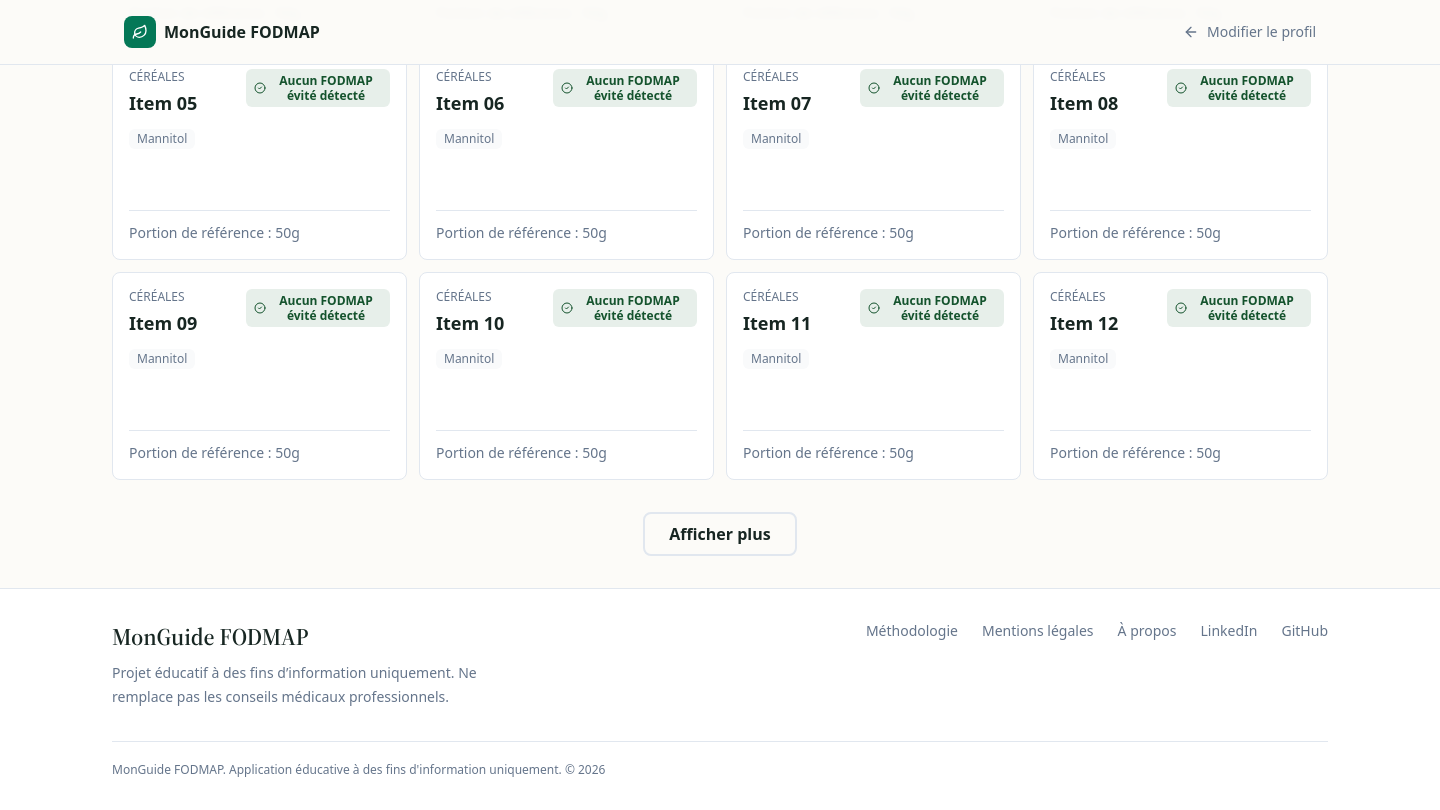
Explorer workflow › loads more foods in fixed increments and hides the control at the final state
The image size is (1440, 810).
(page scrolled)
Click the button "Afficher plus": (720, 534) [643,512,797,556]
(page scrolled)
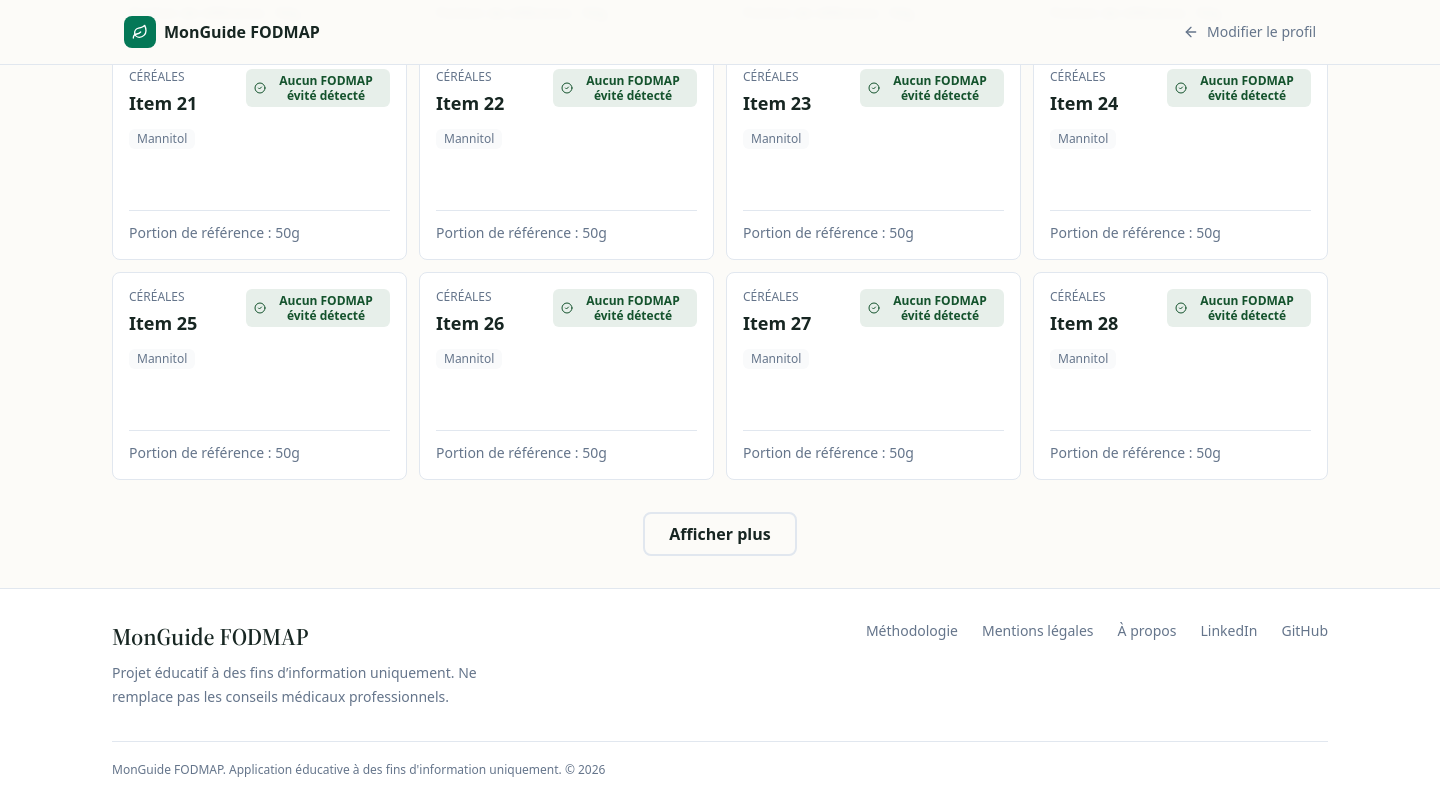
Now the heading "Item 28" is shown, box [1050,308,1118,336]
Click the button "Afficher plus": (720, 534) [643,512,797,556]
(page scrolled)
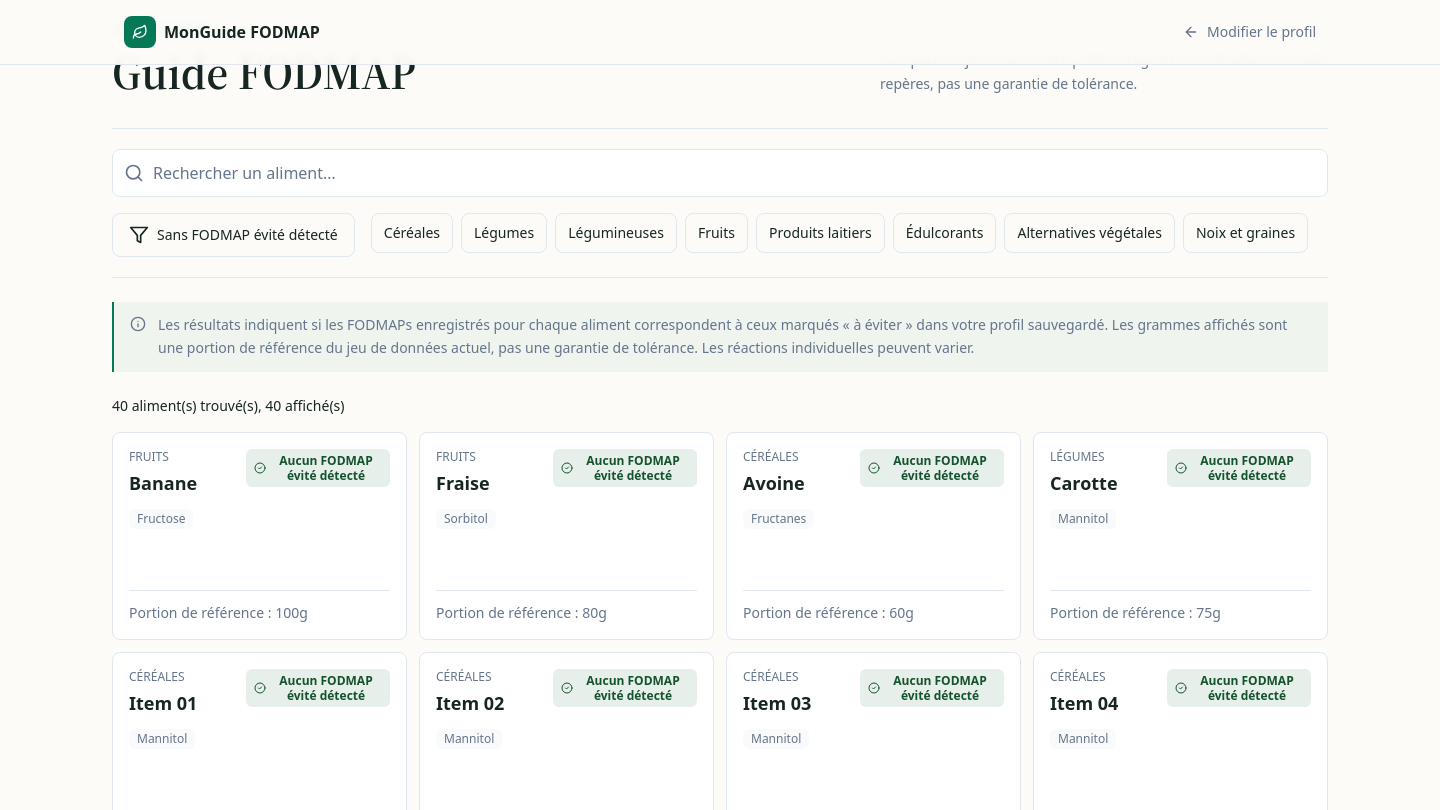
Now the message shows "40 affiché(s)", box [258,396,344,414]
Now the button "Afficher plus" is gone
